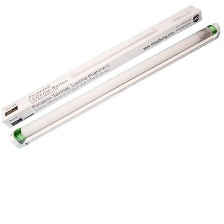book: (0, 2, 204, 128)
light_bulb: (9, 22, 217, 145)
